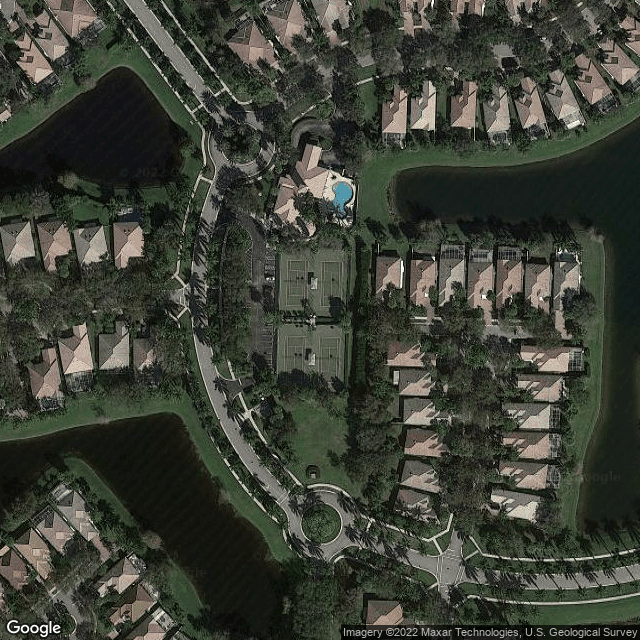Court: (285, 259, 308, 308), (320, 259, 342, 307), (282, 334, 306, 377), (317, 335, 339, 379)
